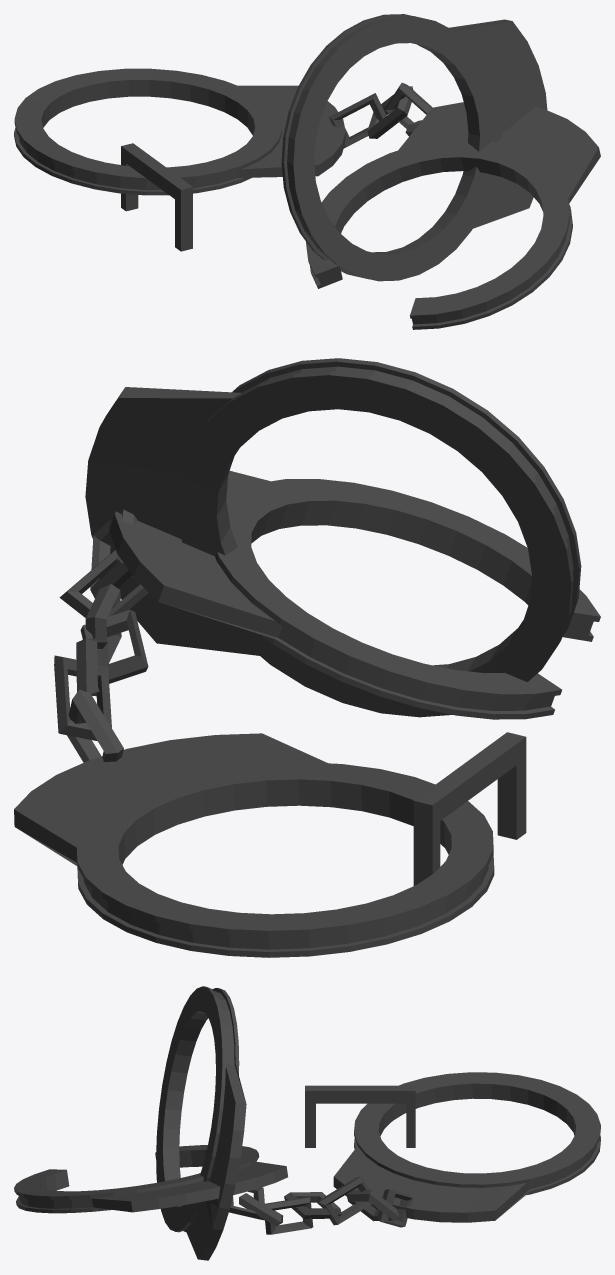
File: Cuffs.glb
3 renders of one model, top to bottom at view 1: azimuth 30°, elevation 25°; view 2: azimuth 150°, elevation 25°; view 3: azimuth 270°, elevation 25°, orthographic. The views are drawn at different scales.
Visible parts, largest first — view 1: cuffClosed, openCuff, cuffsClosed, cuffHold; view 2: cuffsClosed, cuffClosed, openCuff, cuffHold; view 3: cuffsClosed, cuffClosed, openCuff, cuffHold.
Part boxes in pixels (<box>): cuffClosed: <box>281,14,547,281</box>; openCuff: <box>306,102,600,329</box>; cuffsClosed: <box>14,68,432,195</box>; cuffHold: <box>121,143,192,251</box>; cuffsClosed: <box>14,509,494,957</box>; cuffClosed: <box>85,358,581,717</box>; openCuff: <box>109,471,600,719</box>; cuffHold: <box>413,732,526,885</box>; cuffsClosed: <box>229,1072,600,1234</box>; cuffClosed: <box>156,986,246,1260</box>; openCuff: <box>14,1145,287,1213</box>; cuffHold: <box>305,1085,415,1147</box>.
Bounding box in the file's own units: 0.1887 × 0.1133 × 0.2709.
1 material, 1 textured.
